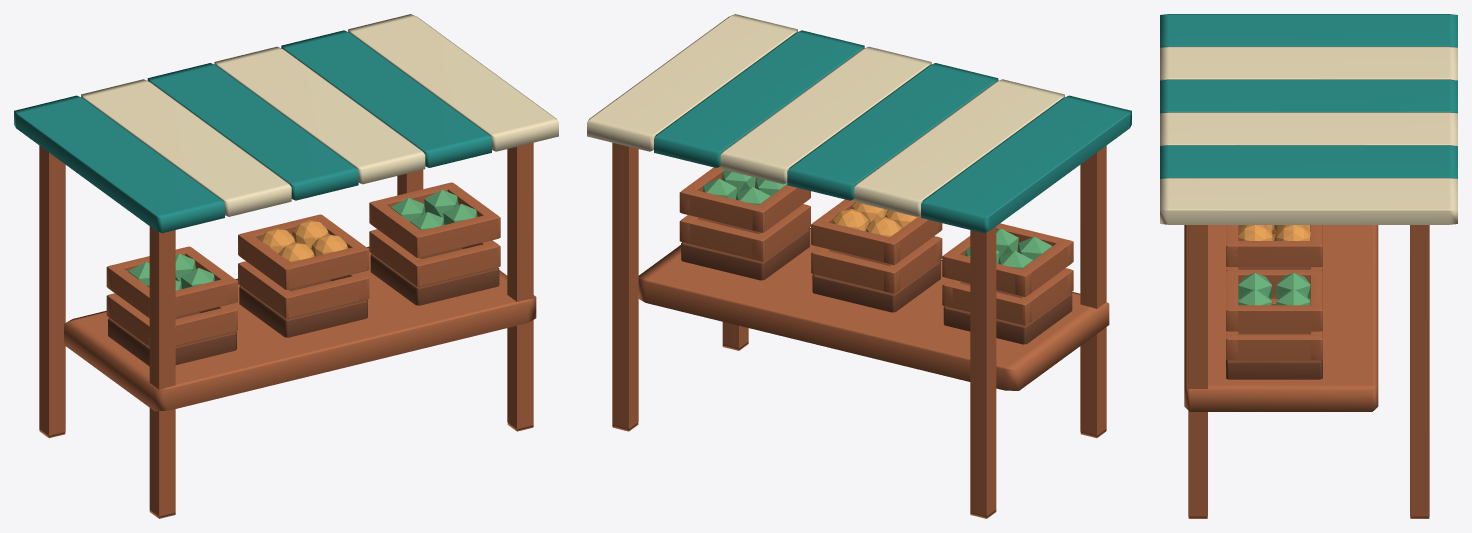
The model's file is produce_stall.glb.
3 renders of one model, left to right at view 1: azimuth 30°, elevation 25°; view 2: azimuth 150°, elevation 25°; view 3: azimuth 270°, elevation 25°, orthographic.
Visible parts, largest first — view 1: Display counter, Striped canopy, Striped canopy.002, Striped canopy.003, Striped canopy.005, Striped canopy.001, Striped canopy.004, Stall post.001, Stall post, Stall post.002, Crate base.002, Crate base.001 (+18 smaller); view 2: Display counter, Striped canopy, Striped canopy.002, Striped canopy.003, Striped canopy.005, Striped canopy.001, Striped canopy.004, Stall post.001, Stall post.003, Stall post, Crate base.002, Crate base.001 (+16 smaller); view 3: Display counter, Striped canopy.005, Striped canopy.001, Striped canopy.002, Striped canopy.003, Striped canopy, Striped canopy.004, Stall post.003, Stall post.002, Slatted crate.014, Slatted crate.022, Slatted crate.020 (+12 smaller).
Part boxes in pixels (x1,y1,x2,y2): Display counter: (64,246,536,411); Striped canopy: (14,95,224,233); Striped canopy.002: (147,63,358,200); Striped canopy.003: (214,46,425,184); Striped canopy.005: (348,14,558,151); Striped canopy.001: (81,79,291,216); Striped canopy.004: (281,30,491,167); Stall post.001: (39,145,65,438); Stall post: (149,226,175,518); Stall post.002: (507,142,533,431); Crate base.002: (370,248,499,305); Crate base.001: (239,280,367,337); Display counter: (638,228,1109,390); Striped canopy: (921,95,1131,233); Striped canopy.002: (787,63,998,200); Striped canopy.003: (720,46,931,184); Striped canopy.005: (587,14,797,151); Striped canopy.001: (854,79,1064,216); Striped canopy.004: (654,30,864,167); Stall post.001: (970,226,996,518); Stall post.003: (612,142,638,431); Stall post: (1080,145,1106,438); Crate base.002: (681,223,809,280); Crate base.001: (812,255,940,312); Display counter: (1184,225,1378,411); Striped canopy.005: (1160,178,1457,224); Striped canopy.001: (1160,46,1457,80); Striped canopy.002: (1160,79,1457,113); Striped canopy.003: (1160,112,1457,145); Striped canopy: (1160,14,1457,47); Striped canopy.004: (1160,145,1457,178); Stall post.003: (1410,225,1429,518); Stall post.002: (1188,225,1207,518); Slatted crate.014: (1226,241,1322,267); Slatted crate.022: (1226,305,1322,331); Slatted crate.020: (1226,334,1322,360).
Bounding box in the file's own units: 3.36 × 2.51 × 2.15.
